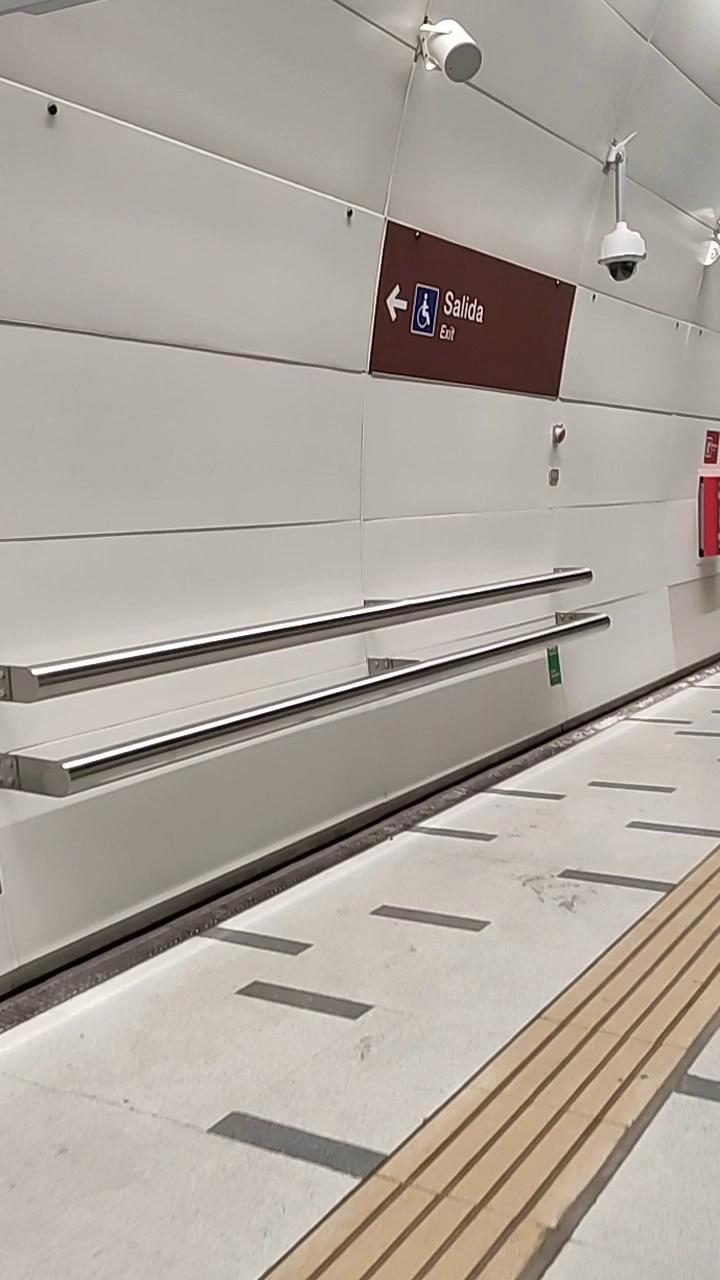handicapped symbol: (416, 291, 432, 329)
left arrow: (384, 284, 410, 323)
